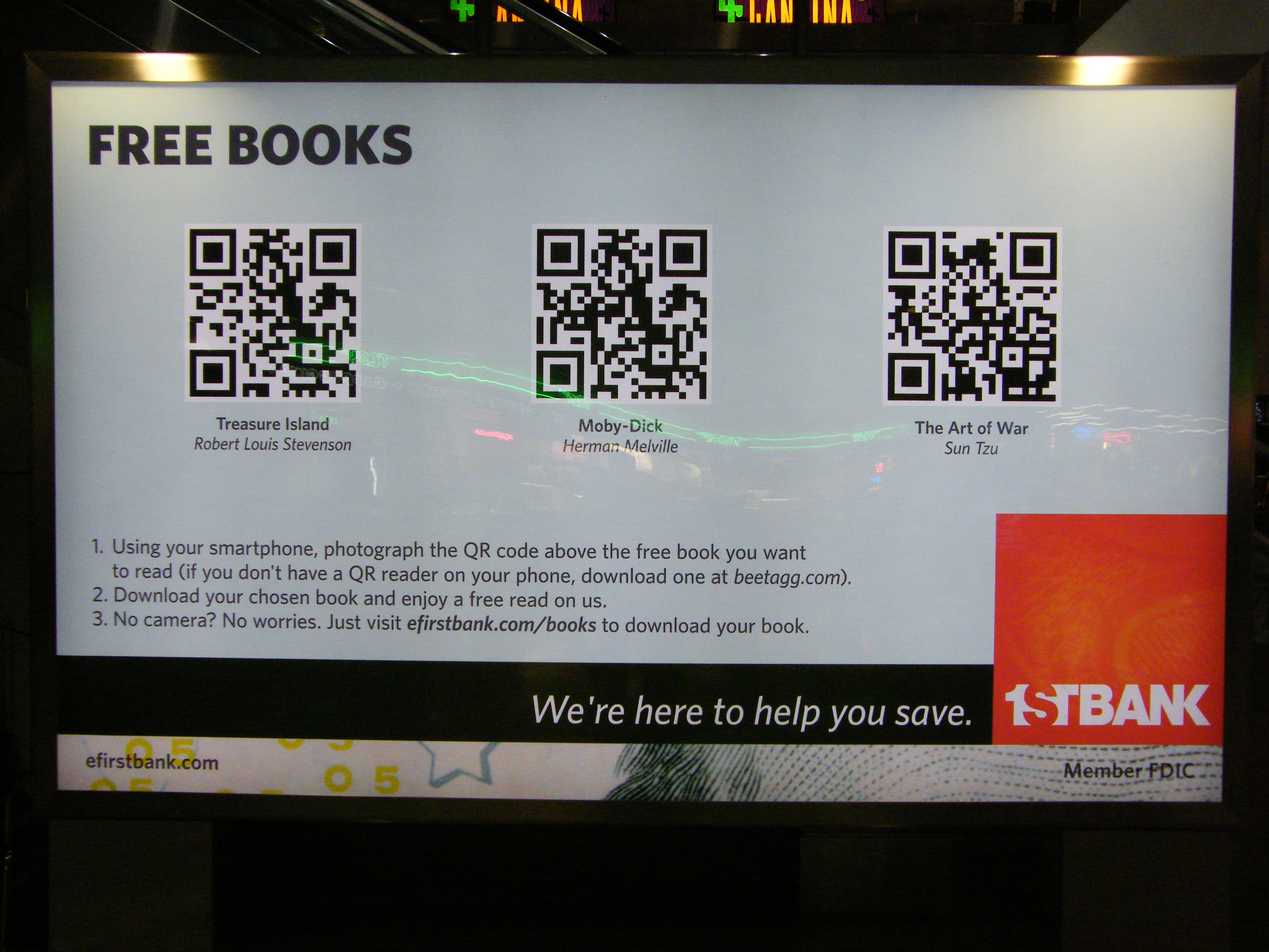QR-CODE: (536, 229, 707, 399), (888, 231, 1057, 401), (189, 229, 356, 397)
